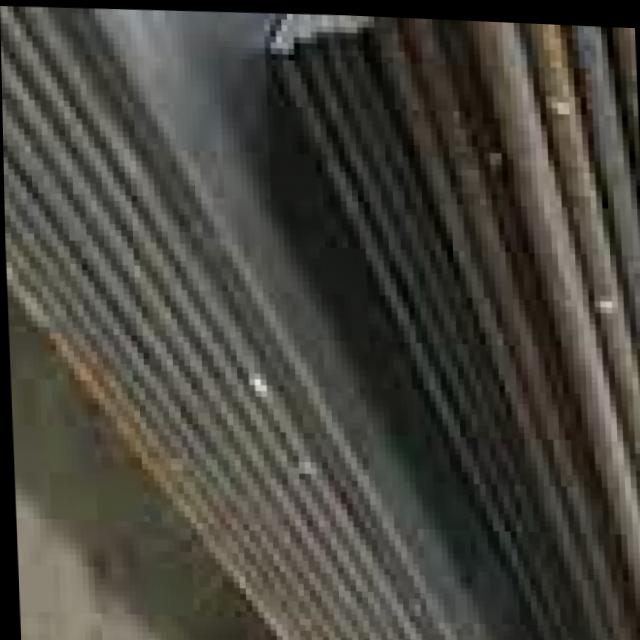metal-plates: (1, 7, 640, 640)
